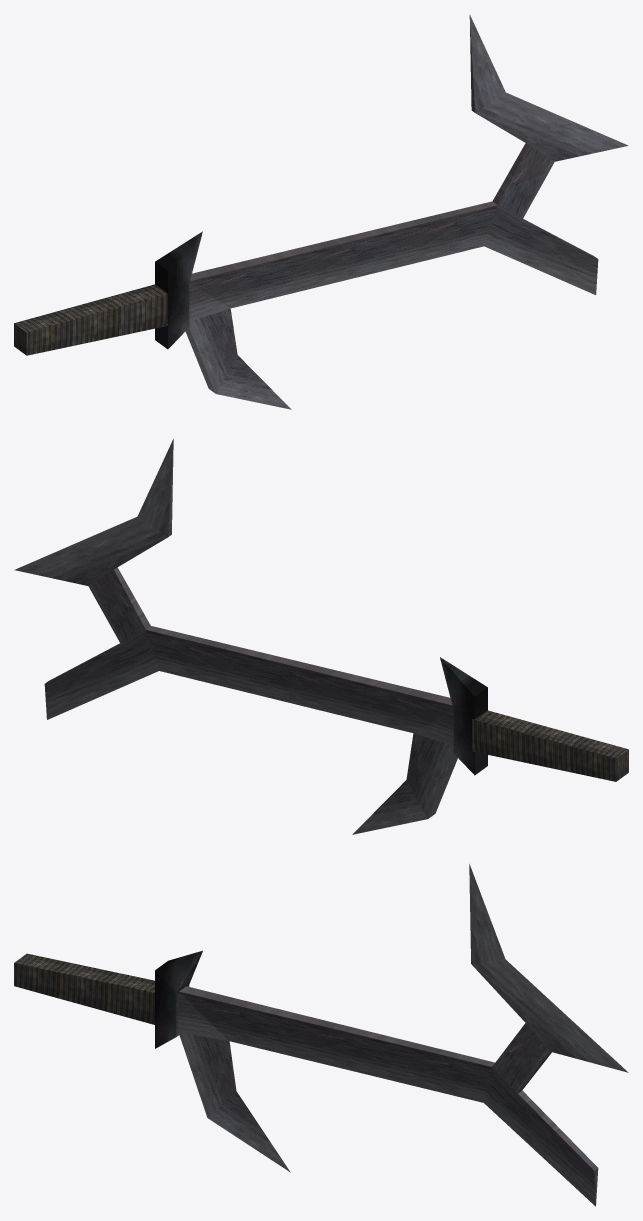
3 renders of one model, top to bottom at view 1: azimuth 30°, elevation 25°; view 2: azimuth 150°, elevation 25°; view 3: azimuth 330°, elevation 25°, orthographic.
Visible parts, largest first — view 1: it105; view 2: it105; view 3: it105.
Part boxes in pixels (x1,y1,x2,y2): it105: (14,14,628,409); it105: (14,439,628,834); it105: (14,864,628,1206).
Size of the model in its own units: 3.56 by 1.97 by 0.1321.
3 materials, 3 textured.
